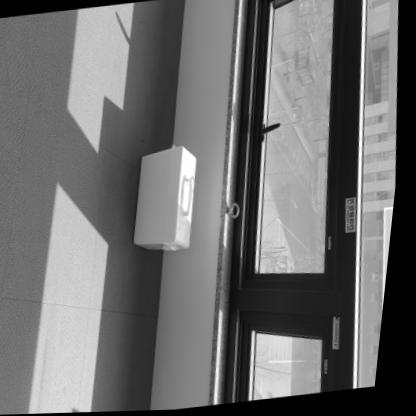DDL: (128, 145, 210, 256)
